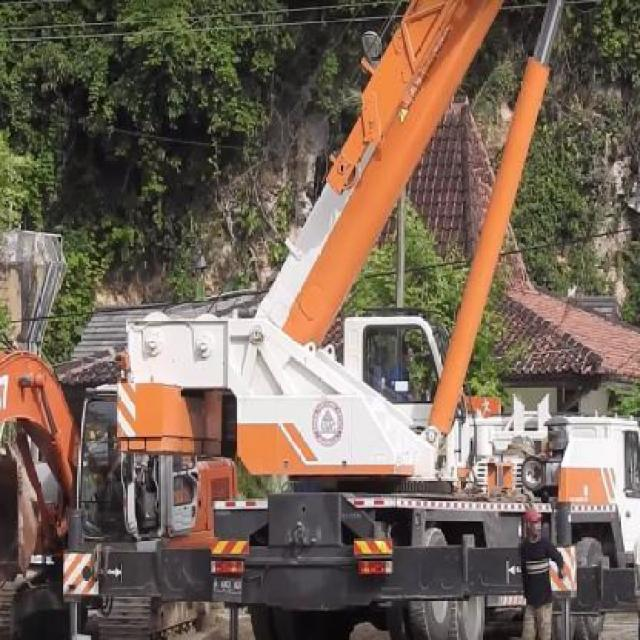Mobile Crane: (64, 4, 639, 639)
